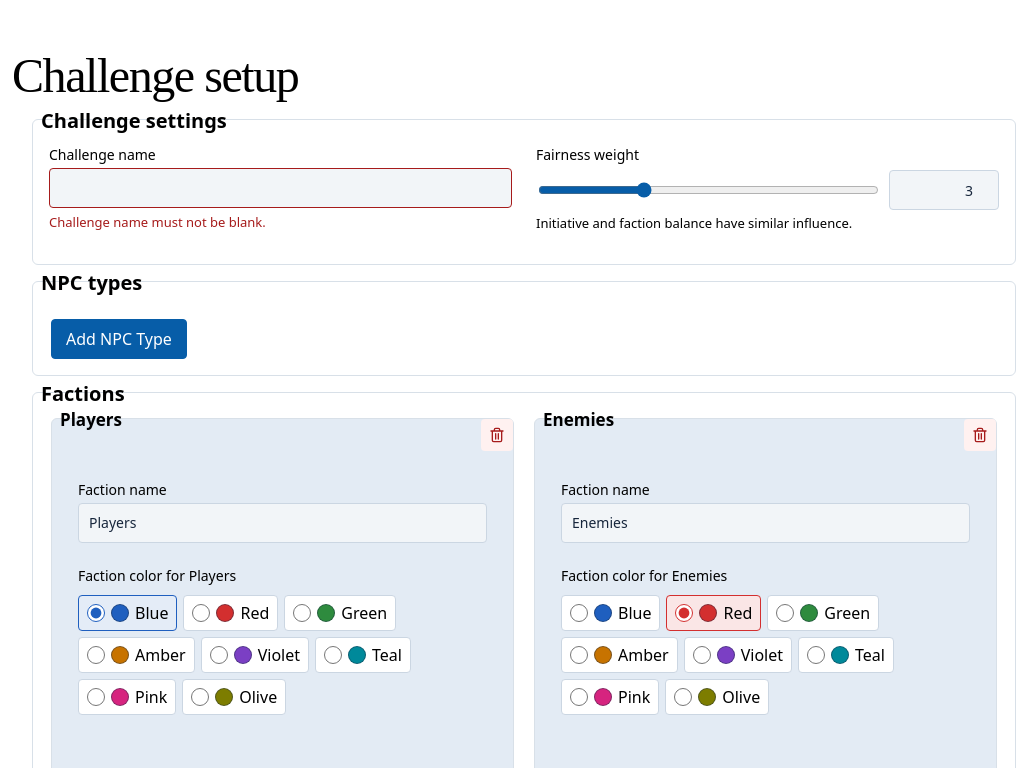
Test: new challenge setup › describes fairness weight 0
The width and height of the screenshot is (1036, 768).
Expected: the heading "Challenge setup" is shown, left=12, top=49, right=298, bottom=102
Set the slider named "Fairness weight slider" to "0" at coordinates (546, 190), box left=538, top=170, right=879, bottom=210
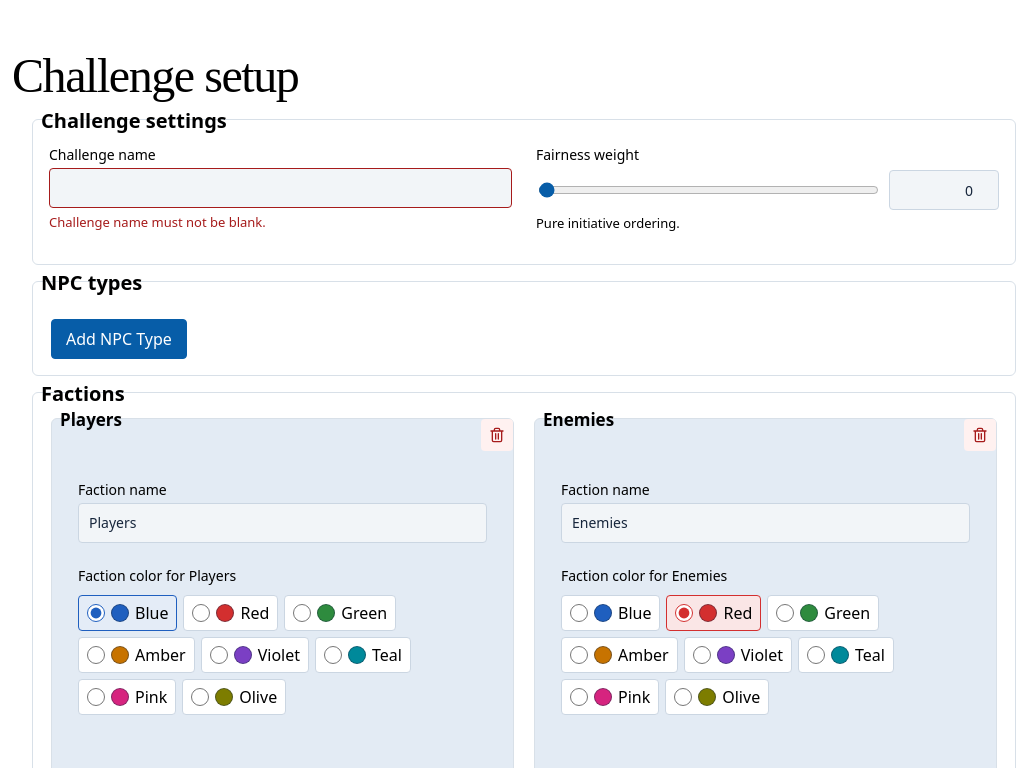
Expected: the text "Pure initiative ordering." is shown, left=536, top=214, right=680, bottom=232
